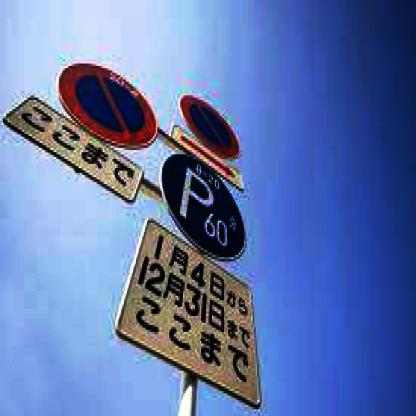Parking: (172, 150, 219, 236)
